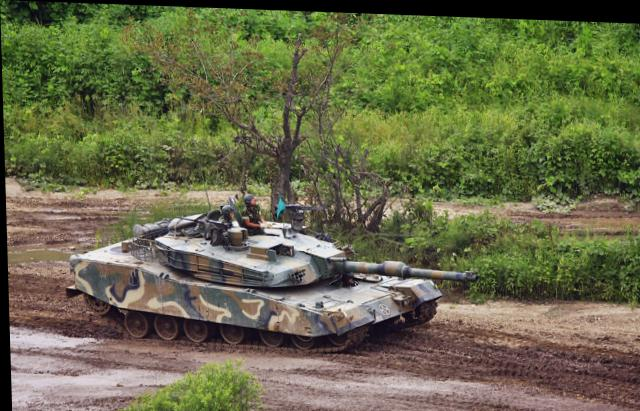other: (201, 193, 234, 227)
tank: (68, 205, 440, 350)
